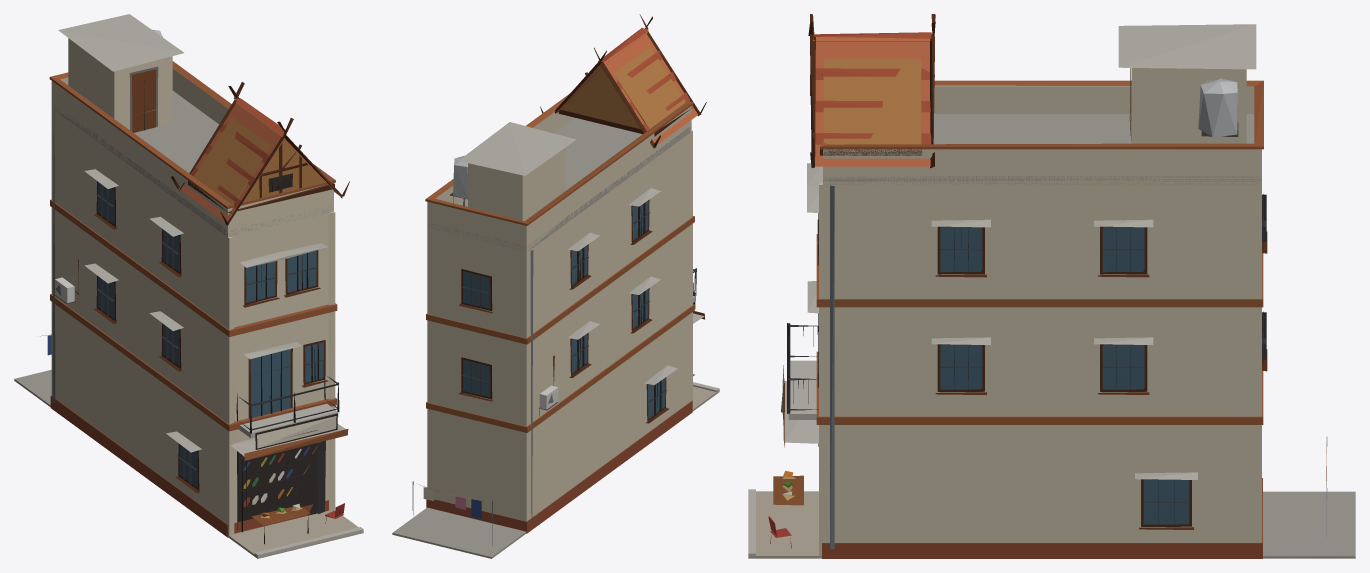
The model's file is bay2_one.glb.
3 renders of one model, left to right at view 1: azimuth 30°, elevation 25°; view 2: azimuth 150°, elevation 25°; view 3: azimuth 270°, elevation 25°, orthographic. The views are drawn at different scales.
Parts seen in each view (by area): view 1: body, windows; view 2: body, windows; view 3: body, windows.
Part boxes in pixels (x1=…): body: x1=14, y1=14, x2=363, y2=558; windows: x1=97, y1=173, x2=323, y2=522; body: x1=392, y1=14, x2=719, y2=558; windows: x1=462, y1=200, x2=665, y2=418; body: x1=748, y1=14, x2=1355, y2=558; windows: x1=940, y1=196, x2=1263, y2=524.
Bounding box in the file's own units: 4.92 × 14.71 × 15.9.
